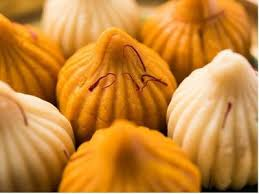modak: (65, 105, 206, 194), (169, 48, 259, 183), (59, 32, 177, 131), (1, 70, 80, 194)
